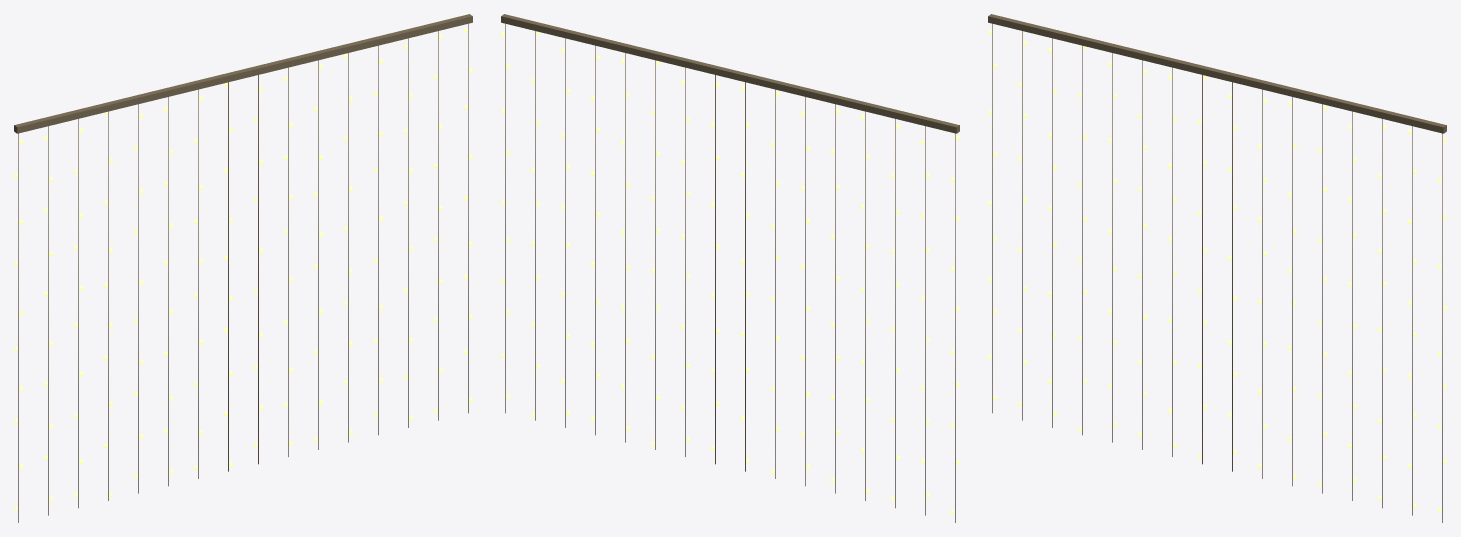
Rendered from lighting-curtain.glb.
3 views of the same model, side by side, from view 1: azimuth 30°, elevation 25°; view 2: azimuth 150°, elevation 25°; view 3: azimuth 330°, elevation 25° (orthographic).
Visible parts, largest first — view 1: BS_CurtainTop; view 2: BS_CurtainTop; view 3: BS_CurtainTop.
Boxes of the visible parts, x1,y1,x2,y2 form: BS_CurtainTop: (14,14,472,133); BS_CurtainTop: (501,14,959,133); BS_CurtainTop: (988,14,1446,133).
Bounding box in the file's own units: 3 × 2.5 × 0.08.
